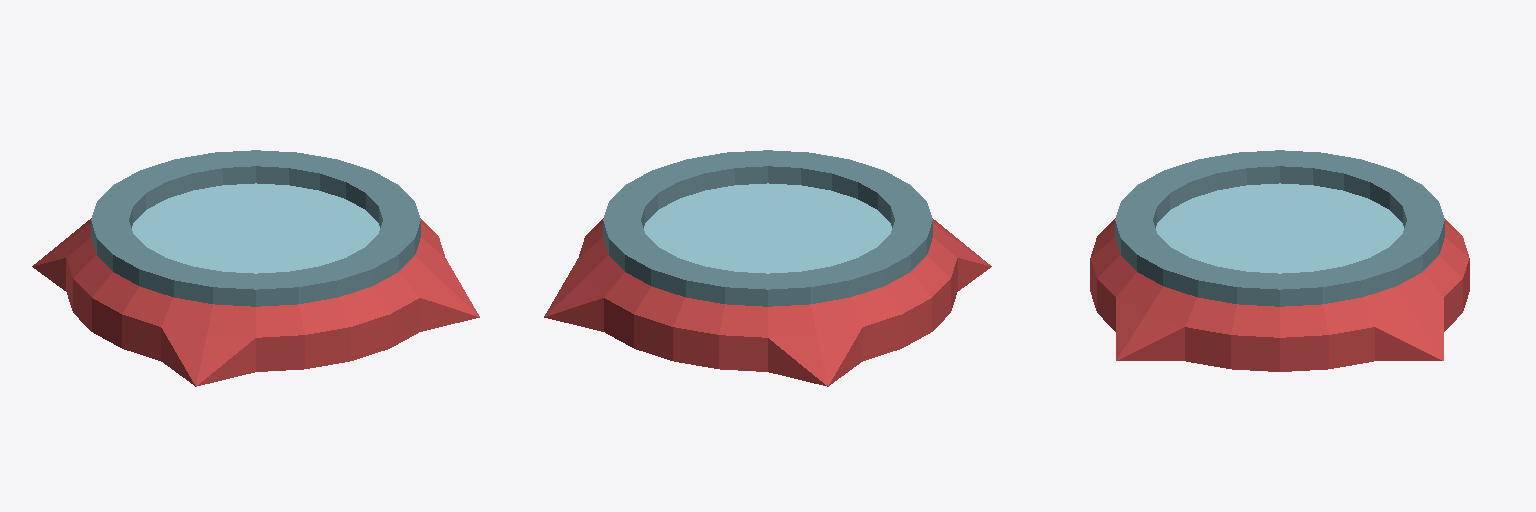
File: towerRound_base.obj
The picture shows the model from 3 angles: view 1: azimuth 30°, elevation 25°; view 2: azimuth 150°, elevation 25°; view 3: azimuth 270°, elevation 25°; orthographic projection.
Visible parts, largest first — view 1: towerRound_base; view 2: towerRound_base; view 3: towerRound_base.
Boxes of the visible parts, <box> form: towerRound_base: <box>32,150,479,386</box>; towerRound_base: <box>544,150,991,386</box>; towerRound_base: <box>1090,150,1469,371</box>.
Size of the model in its own units: 1 by 0.21 by 1.